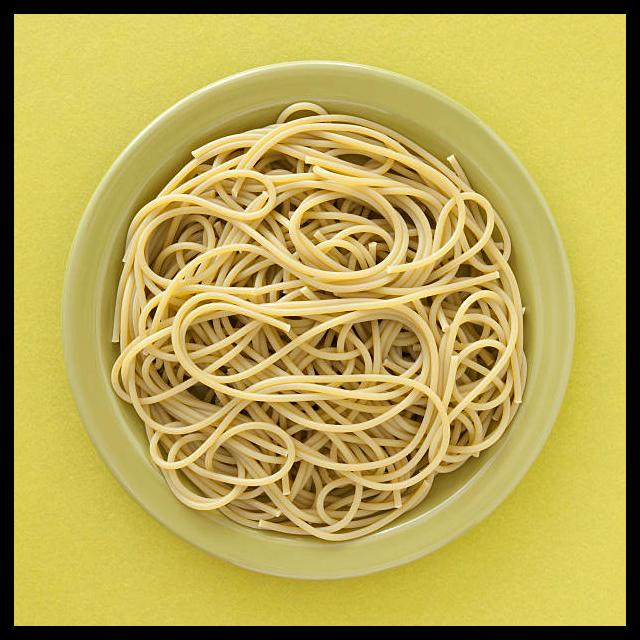noodles: (112, 101, 528, 542)
